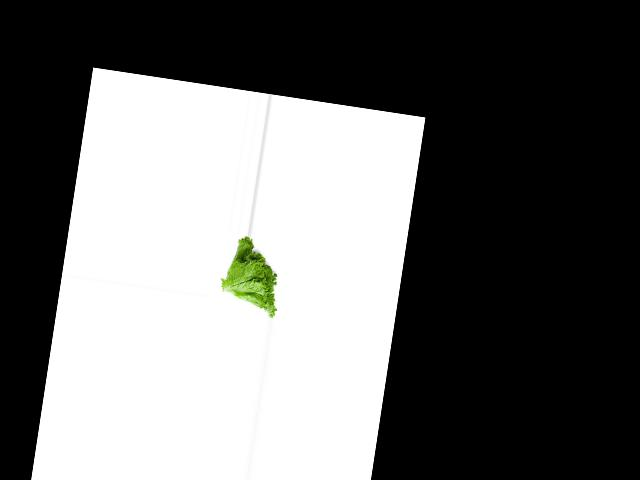lettuce: (218, 233, 288, 319)
